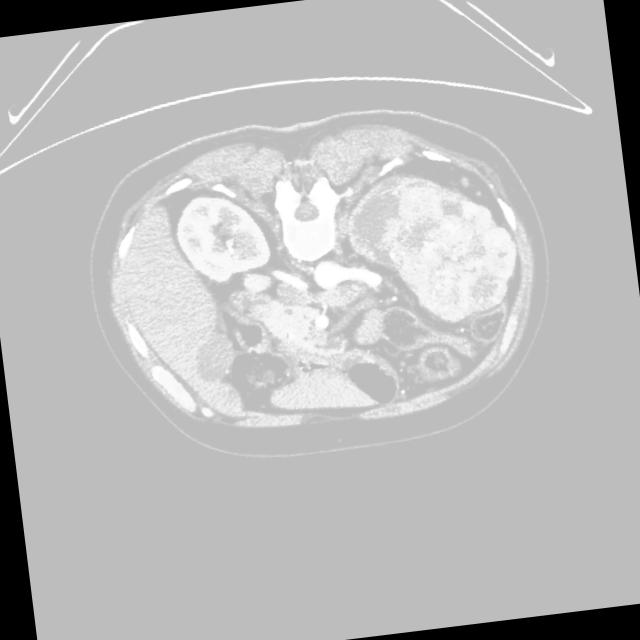TUMOR: (151, 182, 457, 343)
